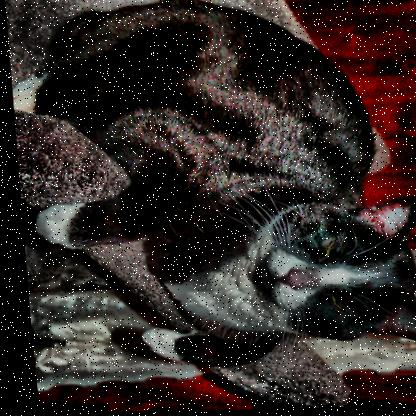cat: (234, 195, 415, 352)
